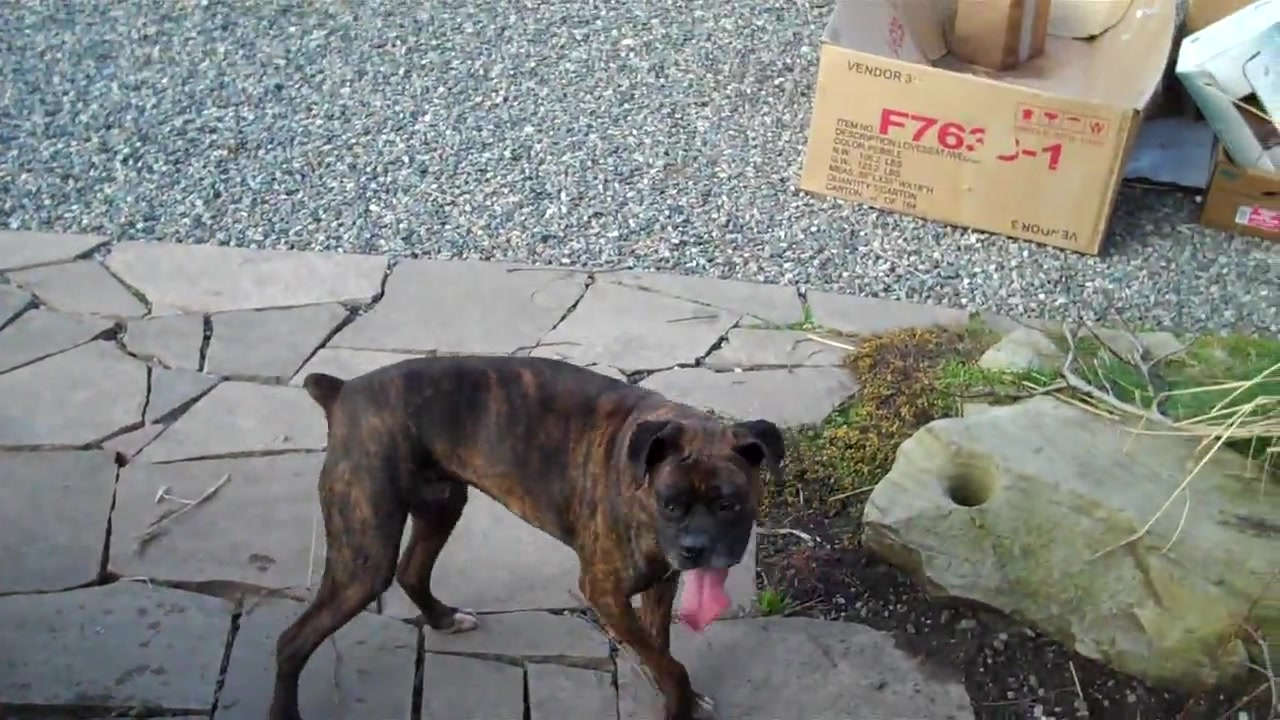dog: (274, 356, 790, 720)
